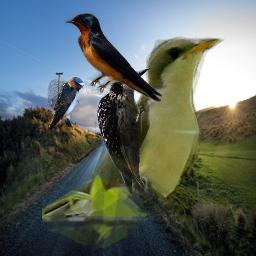Cuckoo: (42, 32, 225, 248)
Swallow: (64, 13, 163, 104), (47, 76, 84, 127)
Woodpecker: (92, 61, 155, 201)
